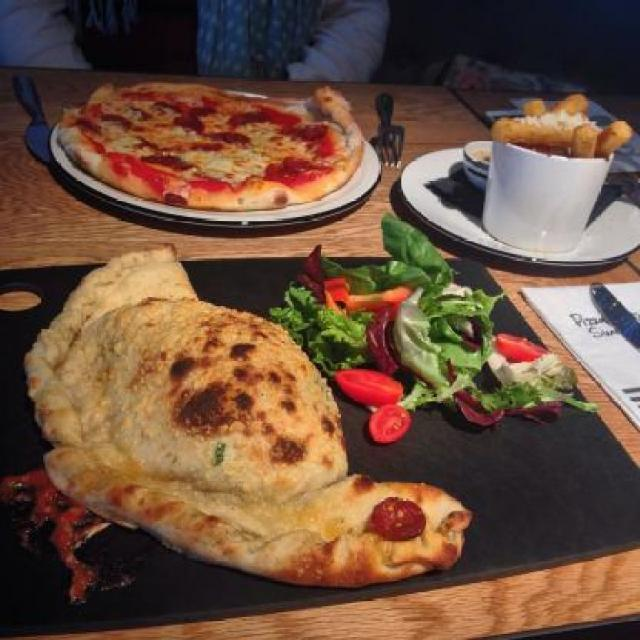French fries: (488, 84, 626, 165)
